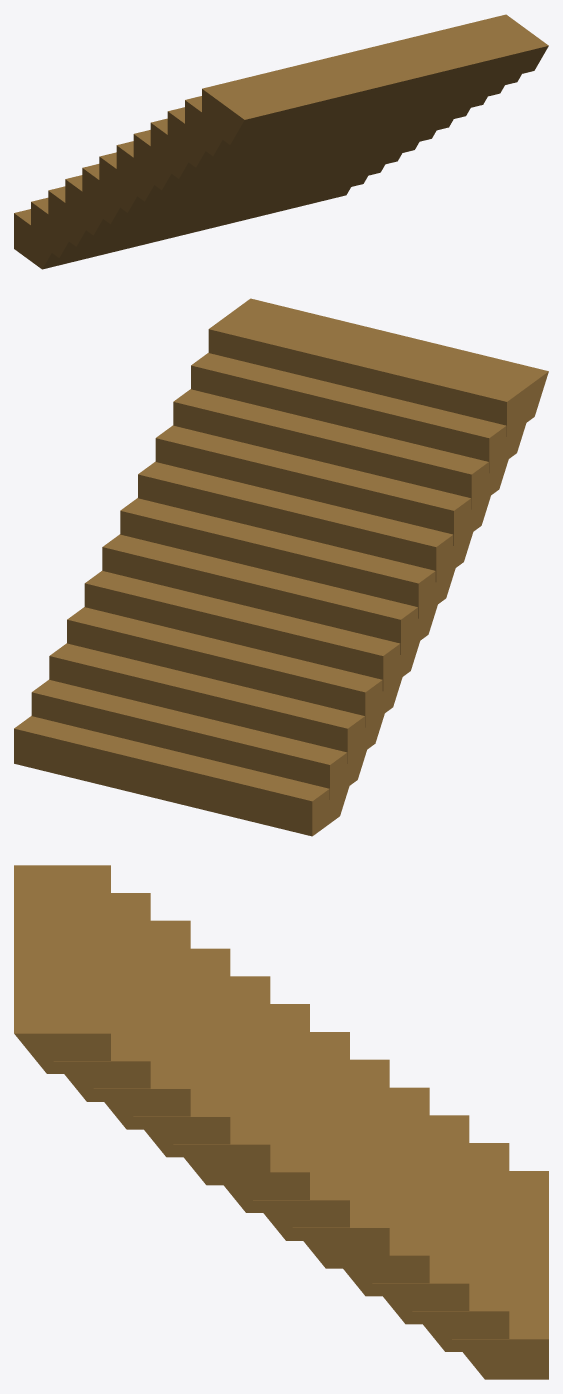
Rendered from Stairs.fbx.
The picture shows the model from 3 angles, top to bottom: view 1: azimuth 30°, elevation 25°; view 2: azimuth 150°, elevation 25°; view 3: azimuth 270°, elevation 25°; orthographic projection. The views are drawn at different scales.
Visible parts, largest first — view 1: Cube.002; view 2: Cube.002; view 3: Cube.002.
Part boxes in pixels (x1,y1,x2,y2): Cube.002: (14, 14, 548, 269); Cube.002: (14, 298, 548, 836); Cube.002: (14, 865, 548, 1379).
Size of the model in its own units: 573 by 536 by 757.
Materials: 1 (1 with a texture image).
